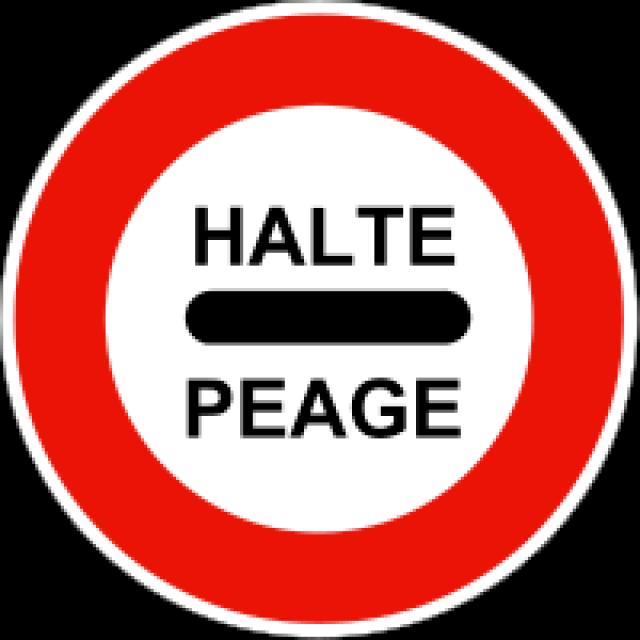forbidden: (3, 2, 640, 640)
